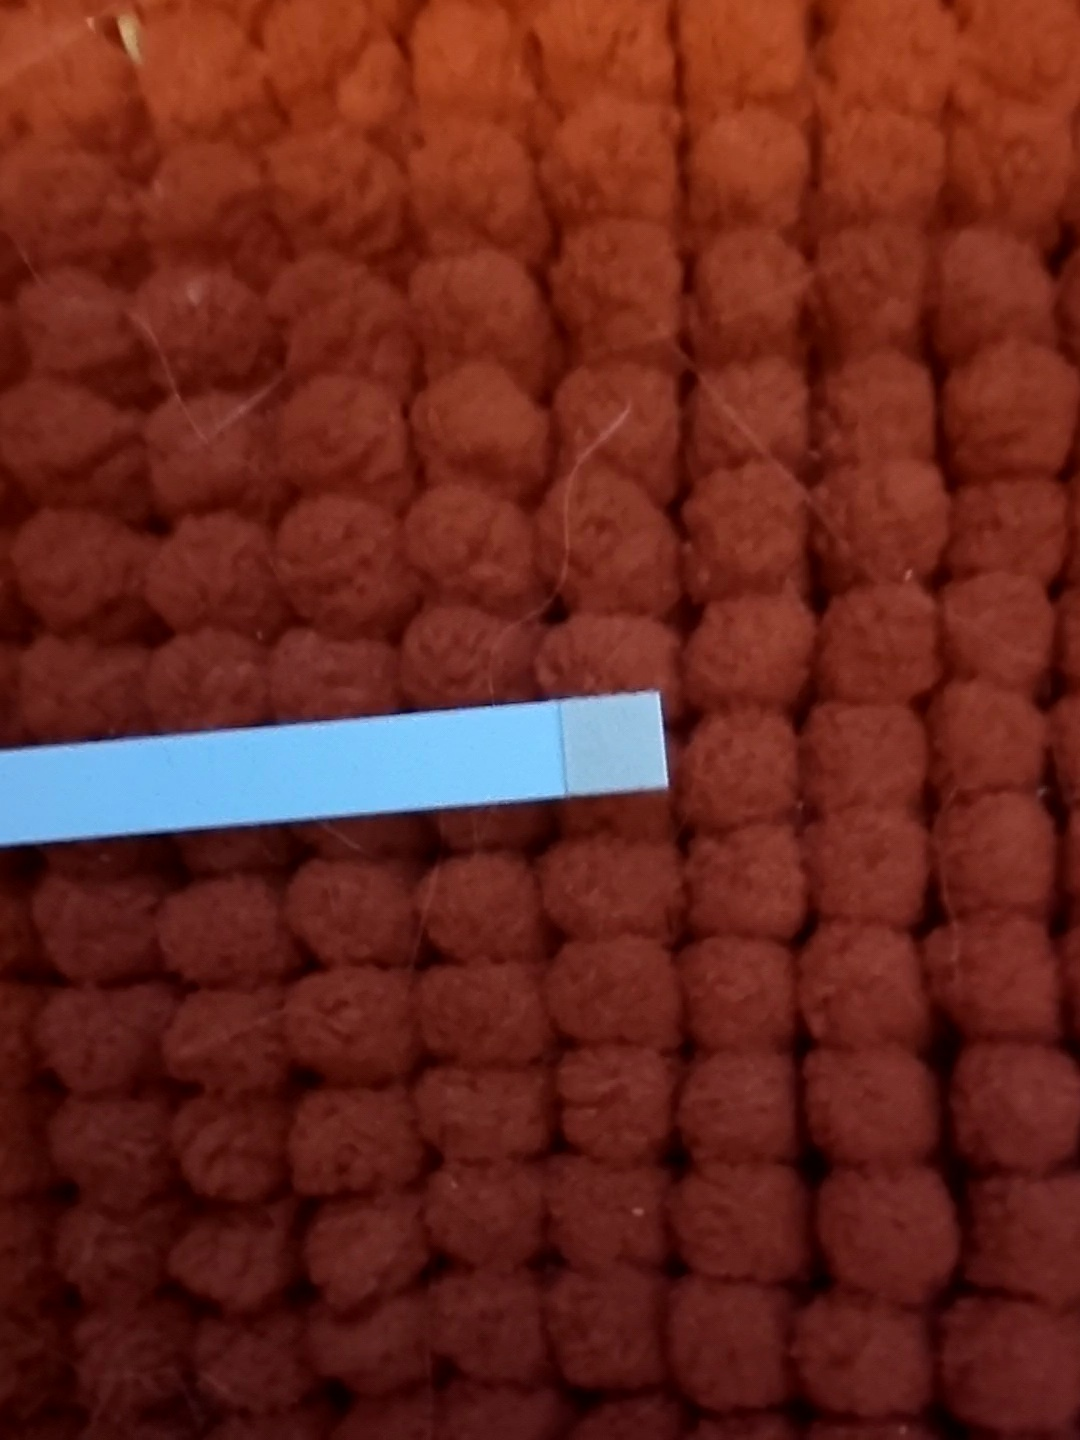keto-tip: (551, 686, 680, 806)
